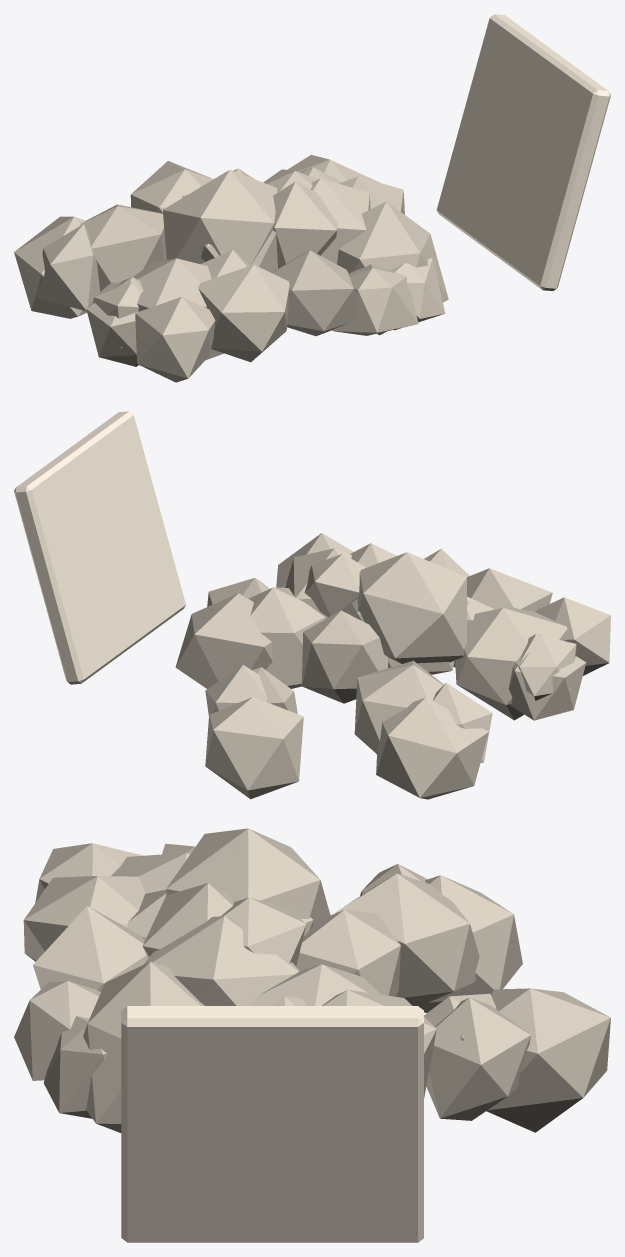
File: SM_VK_Prop_CoalPile.fbx
The picture shows the model from 3 angles, top to bottom: view 1: azimuth 30°, elevation 25°; view 2: azimuth 150°, elevation 25°; view 3: azimuth 270°, elevation 25°; orthographic projection. The views are drawn at different scales.
Visible parts, largest first — view 1: SM_VK_Prop_CoalPile.001; view 2: SM_VK_Prop_CoalPile.001; view 3: SM_VK_Prop_CoalPile.001.
Part boxes in pixels (bbox=[...]): SM_VK_Prop_CoalPile.001: bbox=[14, 14, 610, 382]; SM_VK_Prop_CoalPile.001: bbox=[14, 411, 610, 799]; SM_VK_Prop_CoalPile.001: bbox=[14, 828, 610, 1242].
Bounding box in the file's own units: 1.31 × 0.5659 × 0.9861.
